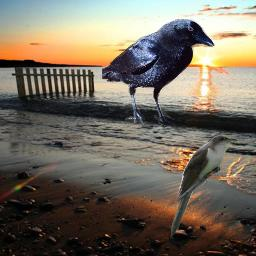Crow: (102, 19, 215, 127)
Cuckoo: (167, 133, 238, 239)
